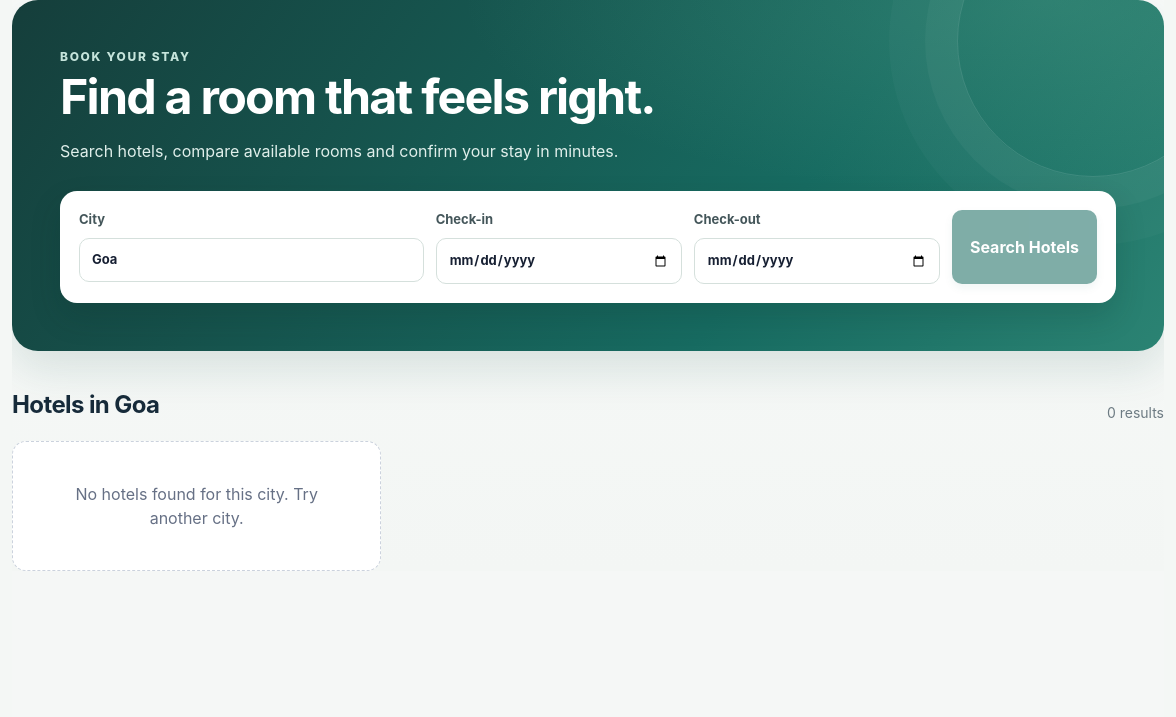
Test: Home › updates the destination heading and searches while typing
Replace the text in the field labelled "City" with "Mumbai": [251, 260] box x1=79 y1=238 x2=424 y2=282
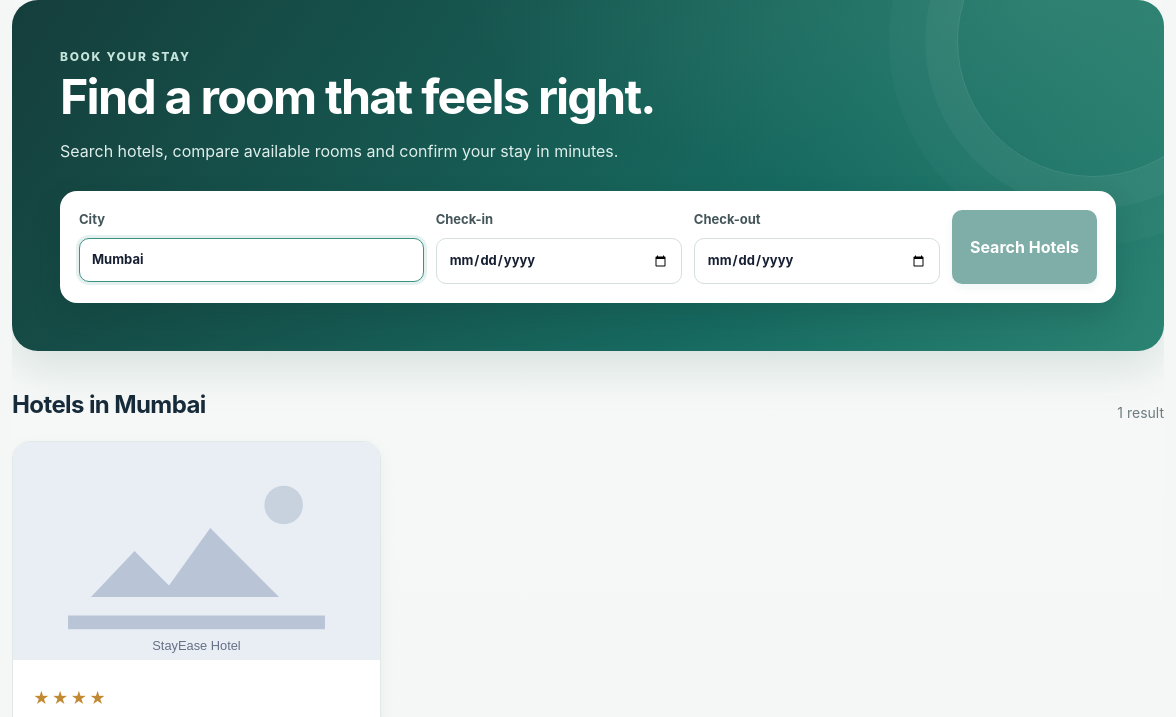
Now the heading "Hotels in Mumbai" is shown, box x1=12 y1=387 x2=206 y2=423
